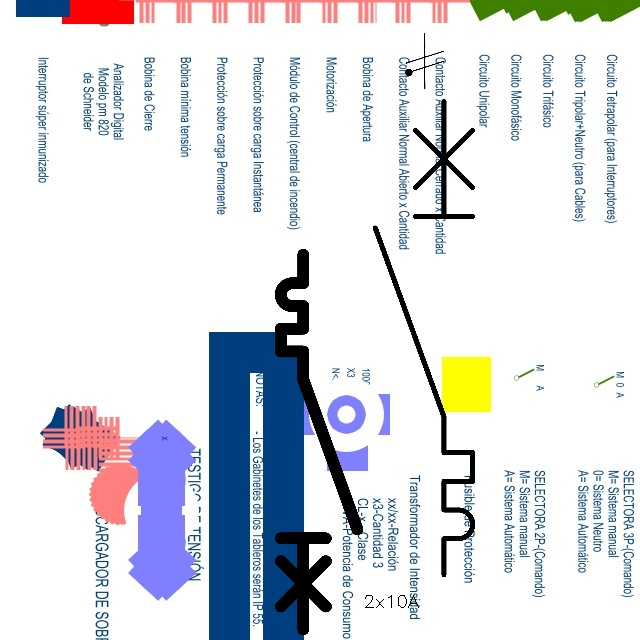interruptor_termomagnetico: (363, 89, 485, 586), (271, 245, 367, 638)
